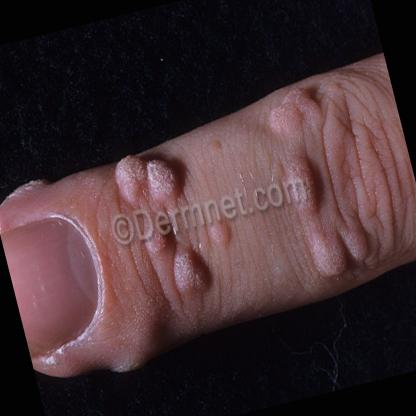Warts: (297, 207, 353, 293), (158, 234, 216, 308), (104, 143, 157, 213), (136, 140, 181, 207)
